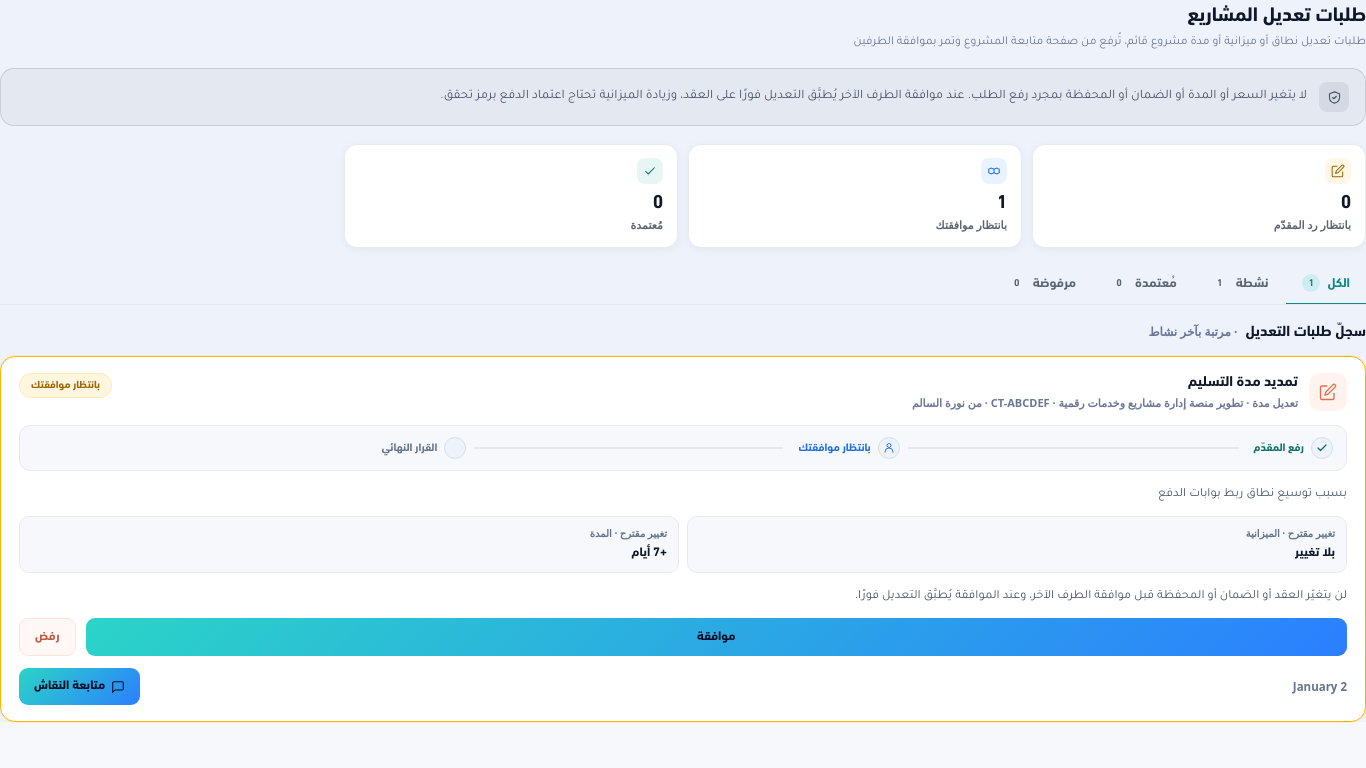
Test: ProjectModificationsComponent › a missing conversationId never opens an unrelated chat — shows an honest inline notice instead
Click the button with class "dp-cta" at (80, 687), box left=19, top=668, right=140, bottom=705
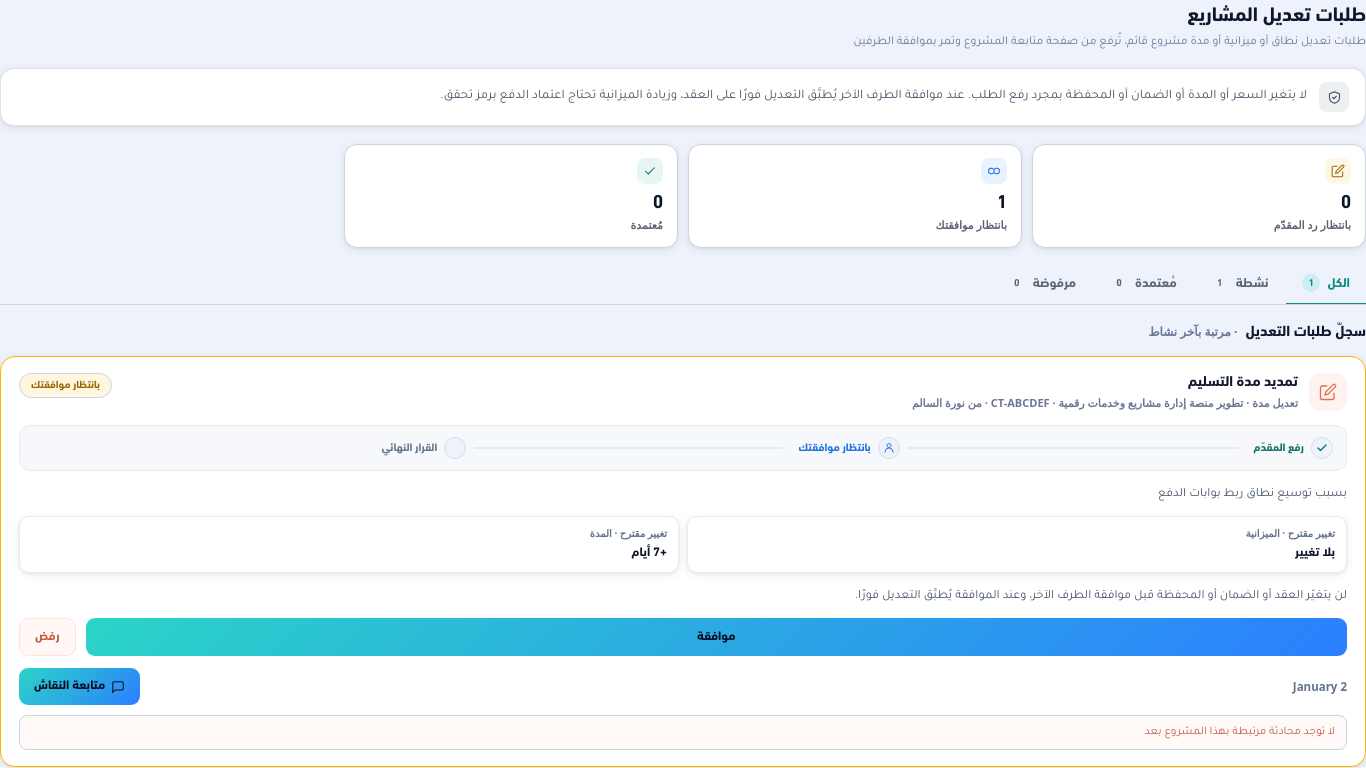
Expected: the text "لا توجد محادثة مرتبطة بهذا المشروع بعد" is shown, left=19, top=715, right=1347, bottom=750
